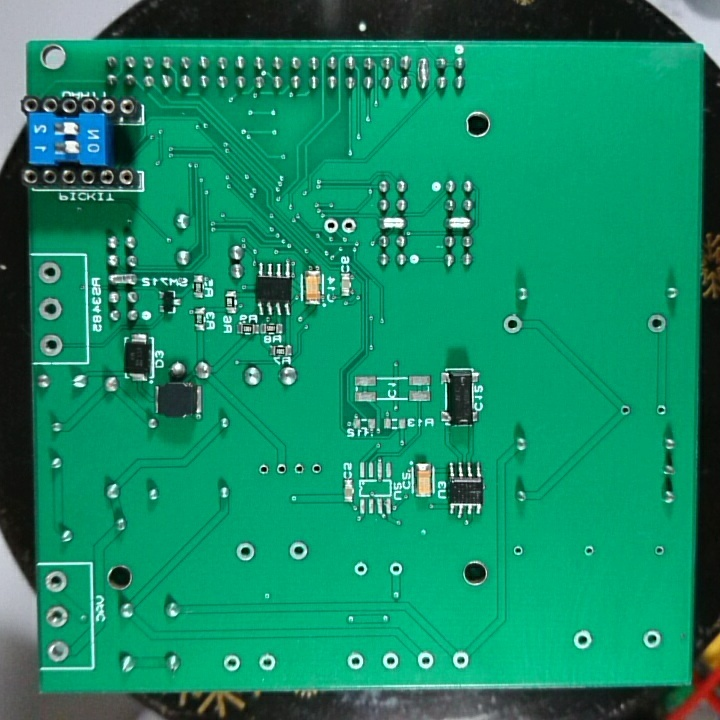F: (36, 258, 64, 290), (44, 638, 77, 664), (570, 628, 598, 655), (39, 333, 67, 360), (37, 297, 66, 323), (44, 603, 70, 631), (43, 570, 70, 596), (220, 649, 244, 678), (644, 312, 669, 337), (449, 650, 475, 674), (501, 311, 524, 338), (256, 650, 279, 677), (641, 627, 664, 654), (287, 538, 310, 564), (234, 540, 257, 565), (344, 649, 367, 674), (413, 648, 436, 673), (381, 649, 403, 674), (387, 559, 405, 580), (322, 215, 339, 237), (352, 558, 369, 579), (581, 541, 597, 563), (341, 218, 359, 236), (291, 458, 307, 478), (510, 540, 525, 560), (309, 459, 323, 479), (653, 401, 667, 420), (274, 462, 290, 478), (619, 403, 634, 420), (257, 462, 271, 479), (653, 543, 667, 559)
P: (413, 55, 433, 95), (376, 213, 411, 232), (441, 214, 480, 231), (106, 270, 140, 288)
